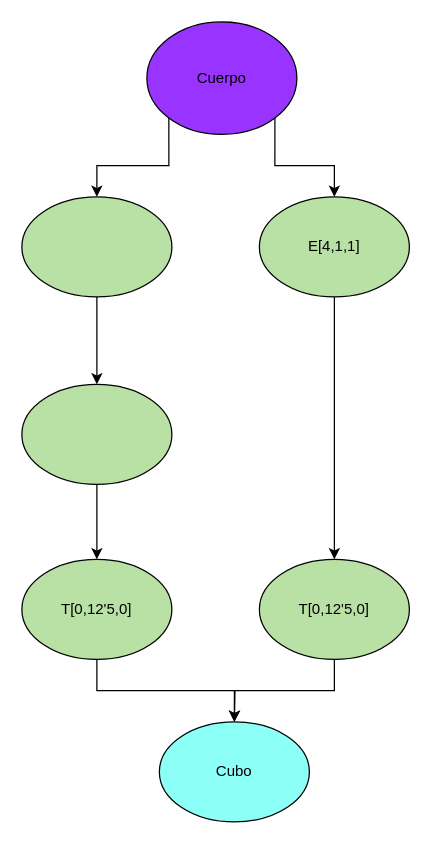
Some shapes in this 431 by 844 pixel diagram are drawn without their labels. Here are the shapes that lost their labels. From the top down, the centre of each, then its label:
At (x=96, y=246): "E[4,4,1]".
At (x=96, y=433): "T[0,25,0)".
